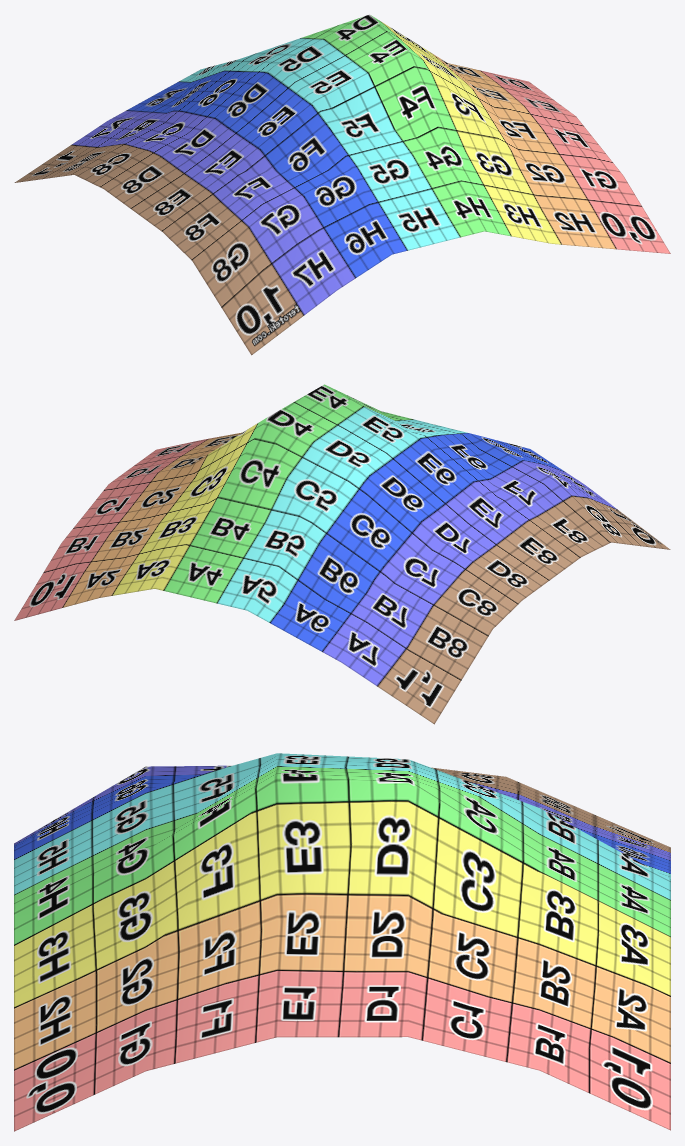
File: grotte_top.fbx
The picture shows the model from 3 angles, top to bottom: view 1: azimuth 30°, elevation 25°; view 2: azimuth 150°, elevation 25°; view 3: azimuth 270°, elevation 25°; orthographic projection. The views are drawn at different scales.
Parts seen in each view (by area): view 1: grotte_top; view 2: grotte_top; view 3: grotte_top.
Boxes of the visible parts, left/top/right/bottom form: grotte_top: left=14, top=14, right=670, bottom=355; grotte_top: left=14, top=384, right=670, bottom=724; grotte_top: left=14, top=753, right=670, bottom=1131.
Size of the model in its own units: 860 by 341 by 840.
Materials: 1 (1 with a texture image).
